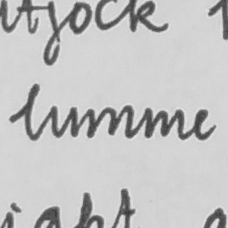e: (191, 106, 218, 142)
l: (22, 81, 43, 143)
m: (84, 102, 135, 141), (140, 104, 187, 141)
u: (46, 103, 80, 140)
